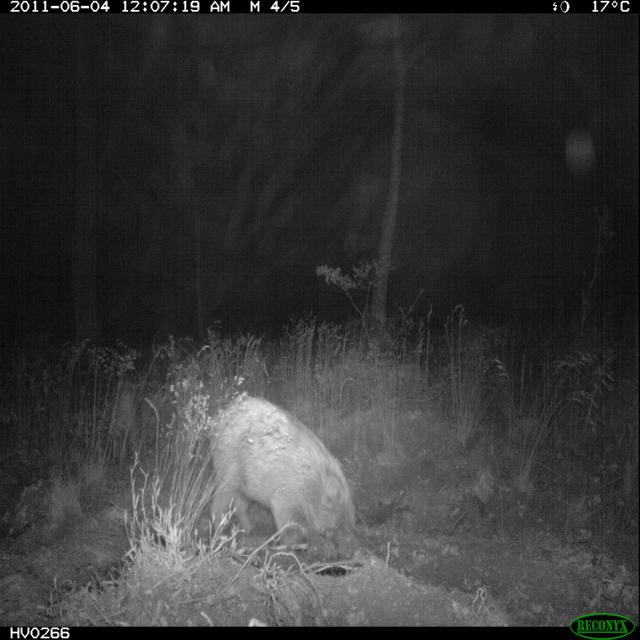boar: (171, 364, 374, 572)
